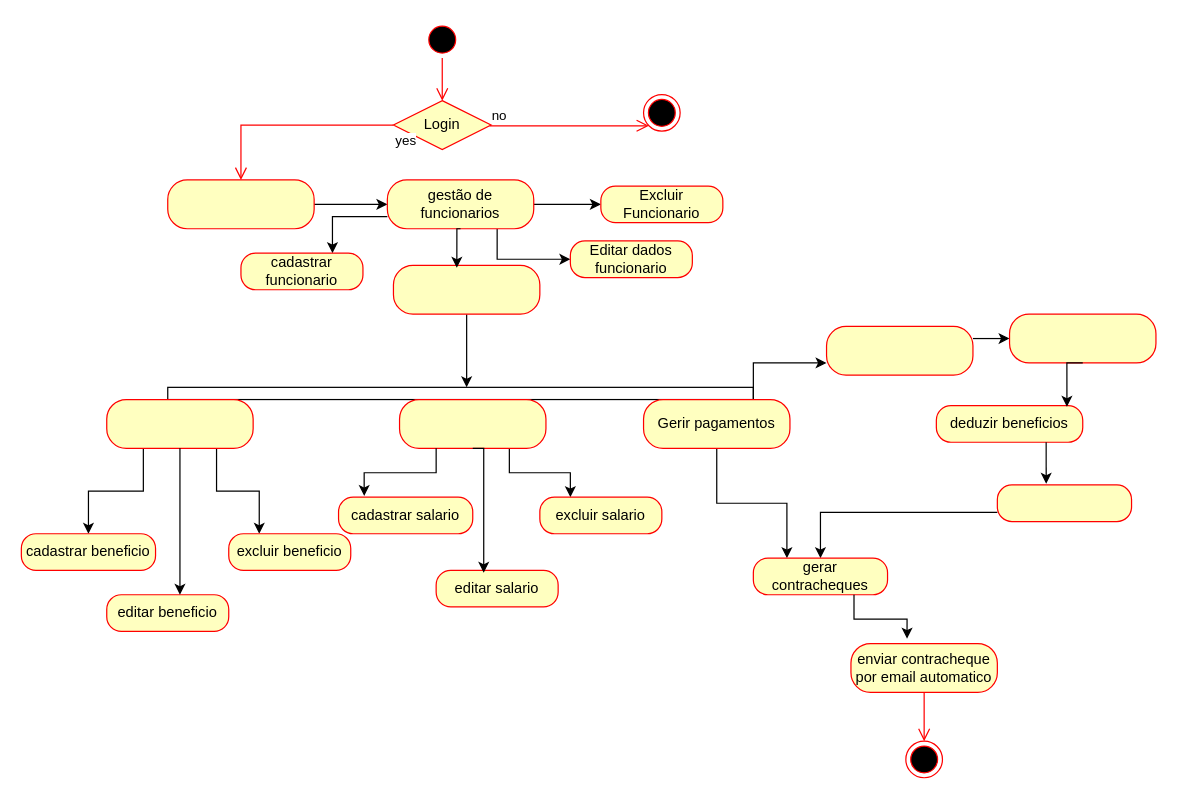
The diagram is 1177 pixels wide and 799 high, and some of its shapes have lost their labels. Each missing label, with the box of its shape:
Abrir financeiro do funcionario: (392, 264, 540, 314)
calcular descontos: (996, 484, 1132, 522)
calcular salarios: (825, 325, 973, 375)
dentro do sistema (menu): (167, 179, 314, 229)
Gerir Beneficios: (106, 398, 253, 448)
Gerir salarios: (398, 398, 546, 448)
Puxar dados do ponto automatico: (1008, 313, 1156, 363)
